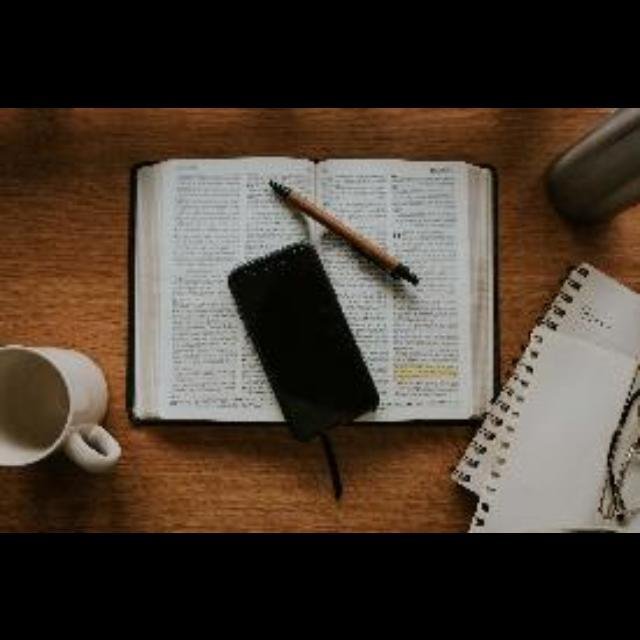Phone: (233, 243, 381, 445)
